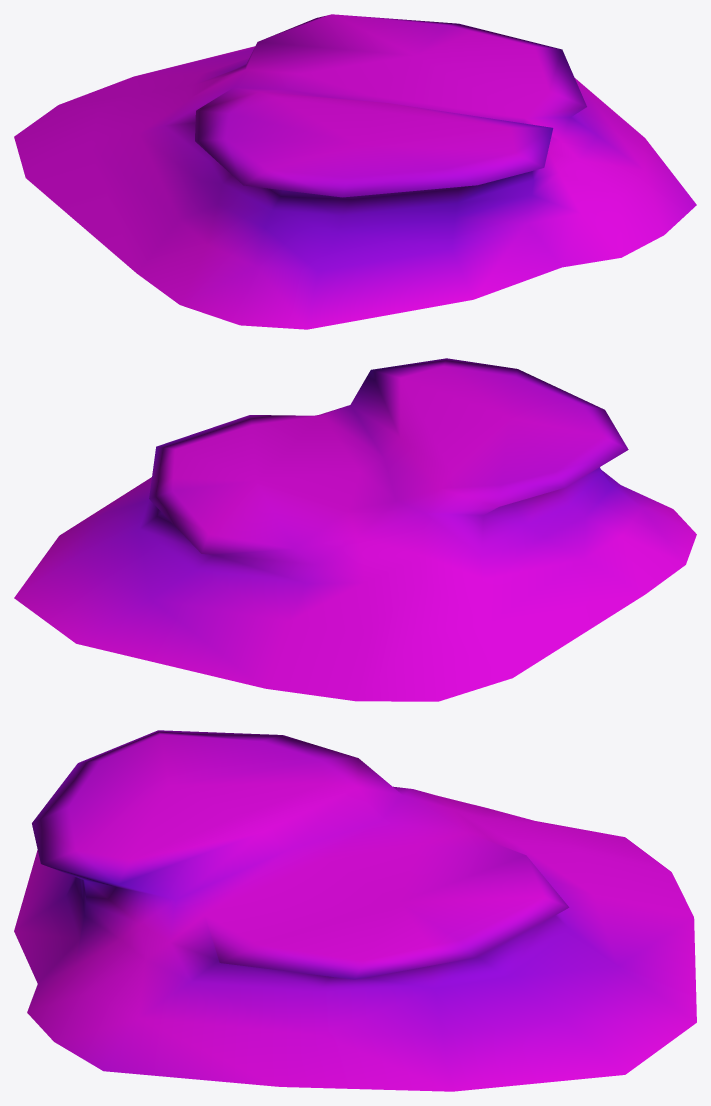
Rendered from SM_Mound_02.FBX.
The picture shows the model from 3 angles, top to bottom: view 1: azimuth 30°, elevation 25°; view 2: azimuth 150°, elevation 25°; view 3: azimuth 270°, elevation 25°; orthographic projection. The views are drawn at different scales.
Visible parts, largest first — view 1: SM_Mound_02; view 2: SM_Mound_02; view 3: SM_Mound_02.
Part boxes in pixels (<box>): SM_Mound_02: <box>14,14,696,329</box>; SM_Mound_02: <box>14,358,696,701</box>; SM_Mound_02: <box>14,730,696,1091</box>.
Bounding box in the file's own units: 603 × 622 × 125.
